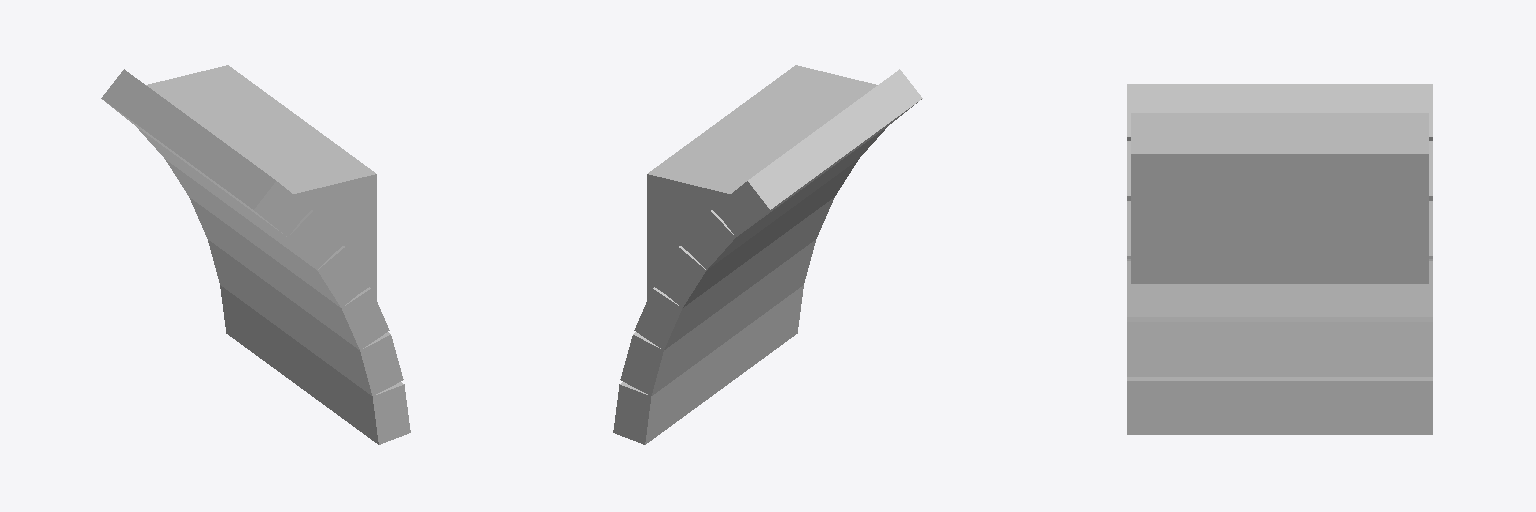
The model's file is lapis_triple_arch.obj.
3 views of the same model, side by side, from view 1: azimuth 30°, elevation 25°; view 2: azimuth 150°, elevation 25°; view 3: azimuth 270°, elevation 25° (orthographic).
Parts seen in each view (by area): view 1: Lapis__Triple_Arch; view 2: Lapis__Triple_Arch; view 3: Lapis__Triple_Arch.
Boxes of the visible parts, box(x1,y1,x2,y2) form: Lapis__Triple_Arch: box(101, 65, 410, 444); Lapis__Triple_Arch: box(613, 65, 922, 444); Lapis__Triple_Arch: box(1127, 84, 1432, 434).
Bounding box in the file's own units: 0.6092 × 1.07 × 1.02.